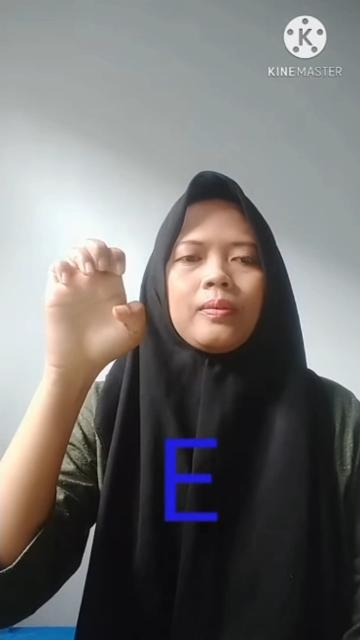E: (42, 244, 148, 370)
